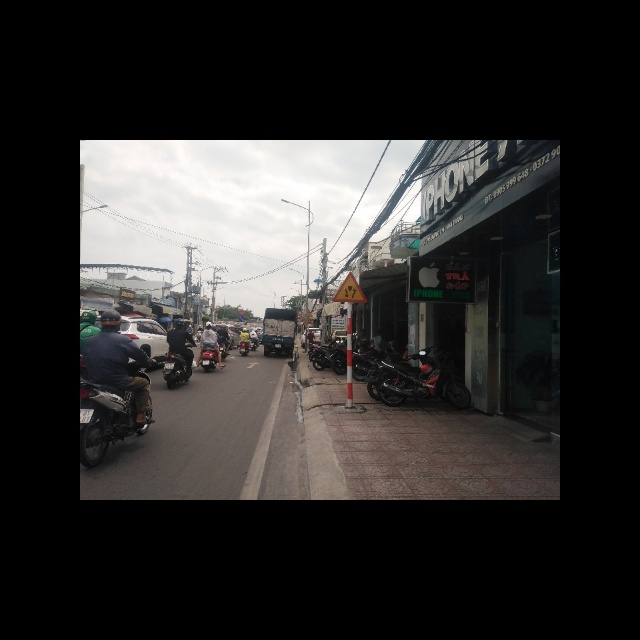Đường đôi: (329, 270, 368, 304)
